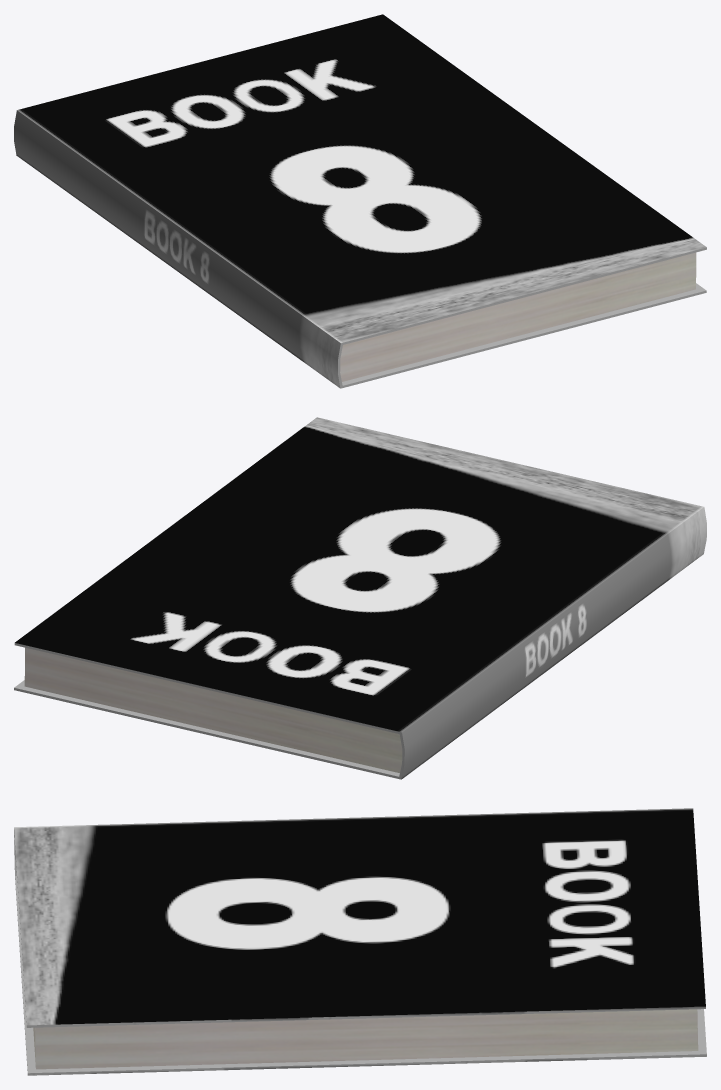
The model's file is Book 3.fbx.
3 views of the same model, one above another, from view 1: azimuth 30°, elevation 25°; view 2: azimuth 150°, elevation 25°; view 3: azimuth 270°, elevation 25° (orthographic). The views are drawn at different scales.
Visible parts, largest first — view 1: Book 3; view 2: Book 3; view 3: Book 3.
Part boxes in pixels (left/top/right/bottom): Book 3: left=14, top=14, right=706, bottom=388; Book 3: left=14, top=417, right=706, bottom=779; Book 3: left=14, top=808, right=706, bottom=1075.
Bounding box in the file's own units: 0.1778 × 0.0248 × 0.2498.
